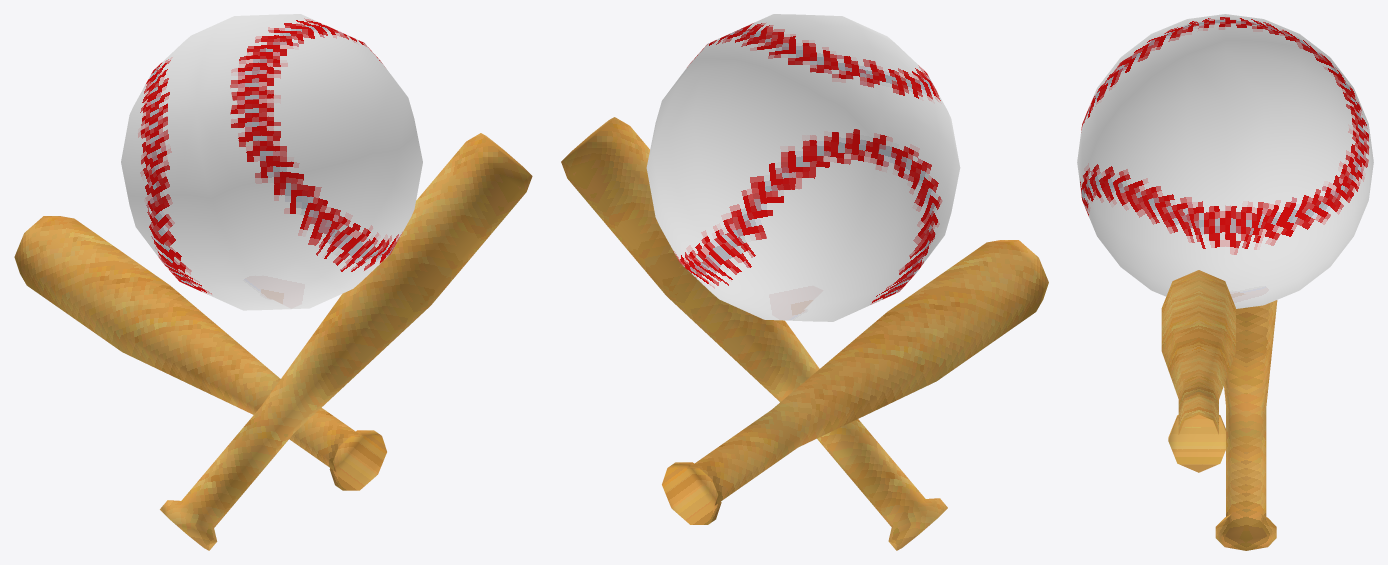
The model's file is ps2_save-icons_crpachinkodokabenpachittechonmagetatsujin7.glb.
3 views of the same model, side by side, from view 1: azimuth 30°, elevation 25°; view 2: azimuth 150°, elevation 25°; view 3: azimuth 270°, elevation 25° (orthographic). The views are drawn at different scales.
Parts seen in each view (by area): view 1: view.ico; view 2: view.ico; view 3: view.ico.
Part boxes in pixels (bbox=[...]): view.ico: bbox=[14, 14, 532, 550]; view.ico: bbox=[561, 14, 1048, 550]; view.ico: bbox=[1077, 14, 1373, 550].
Size of the model in its own units: 5 by 4.88 by 2.71.
1 material, 1 textured.
